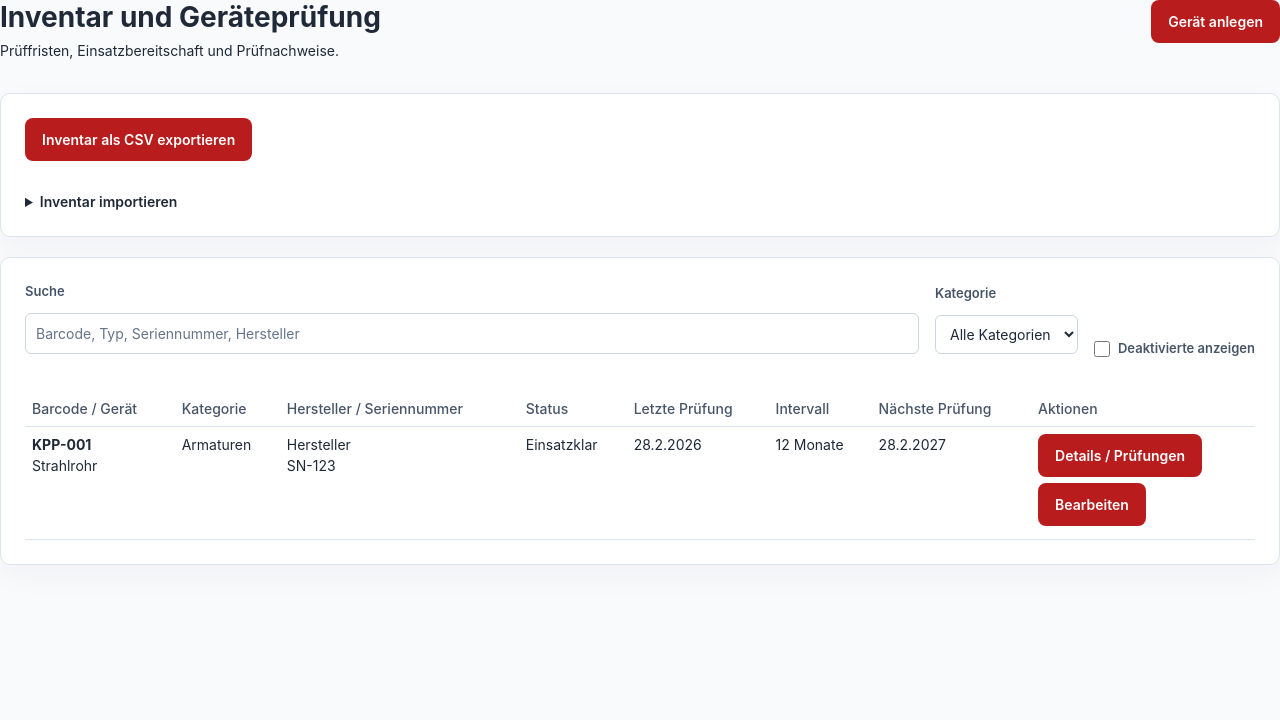
Test: records inspection status/comment and displays the updated due date and history
Click the button with aria-label "KPP-001 anzeigen" at [1120, 455], box [1038,434,1202,476]
(page scrolled)
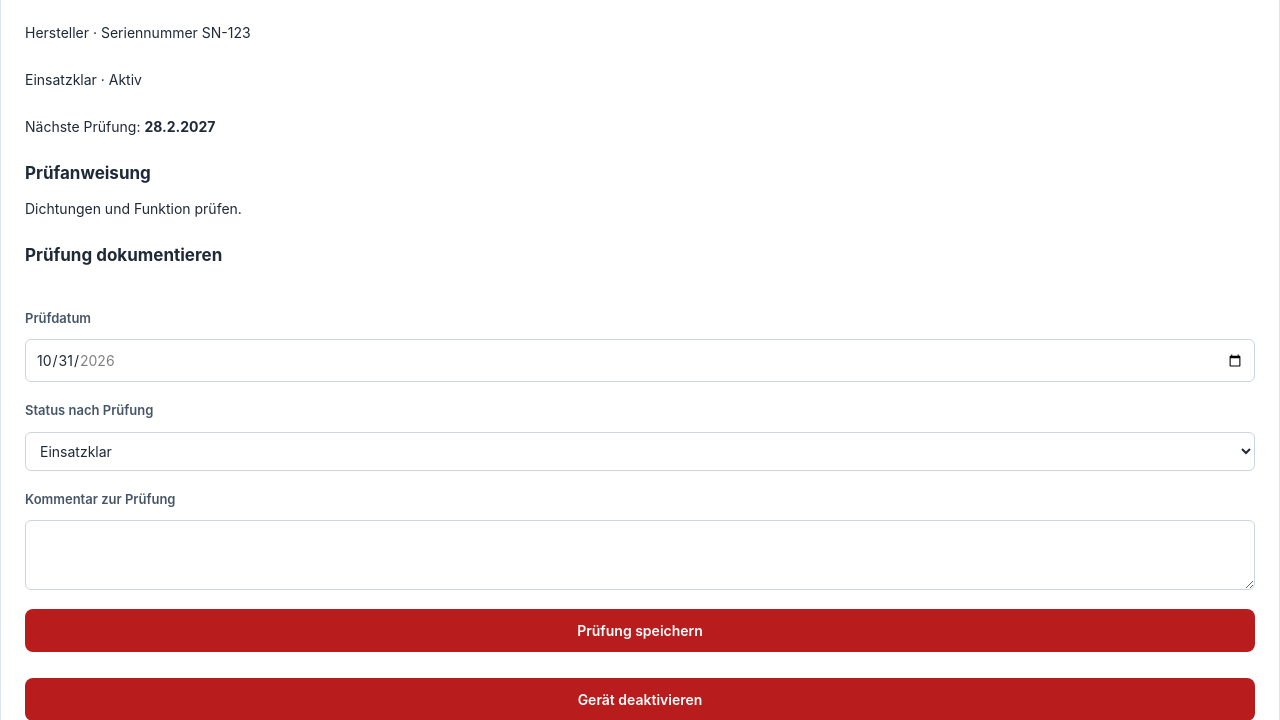
Result: the date field labelled "Prüfdatum" is shown
Type "2026-10-29" into the date field labelled "Prüfdatum" at [640, 360], box [25,339,1255,382]
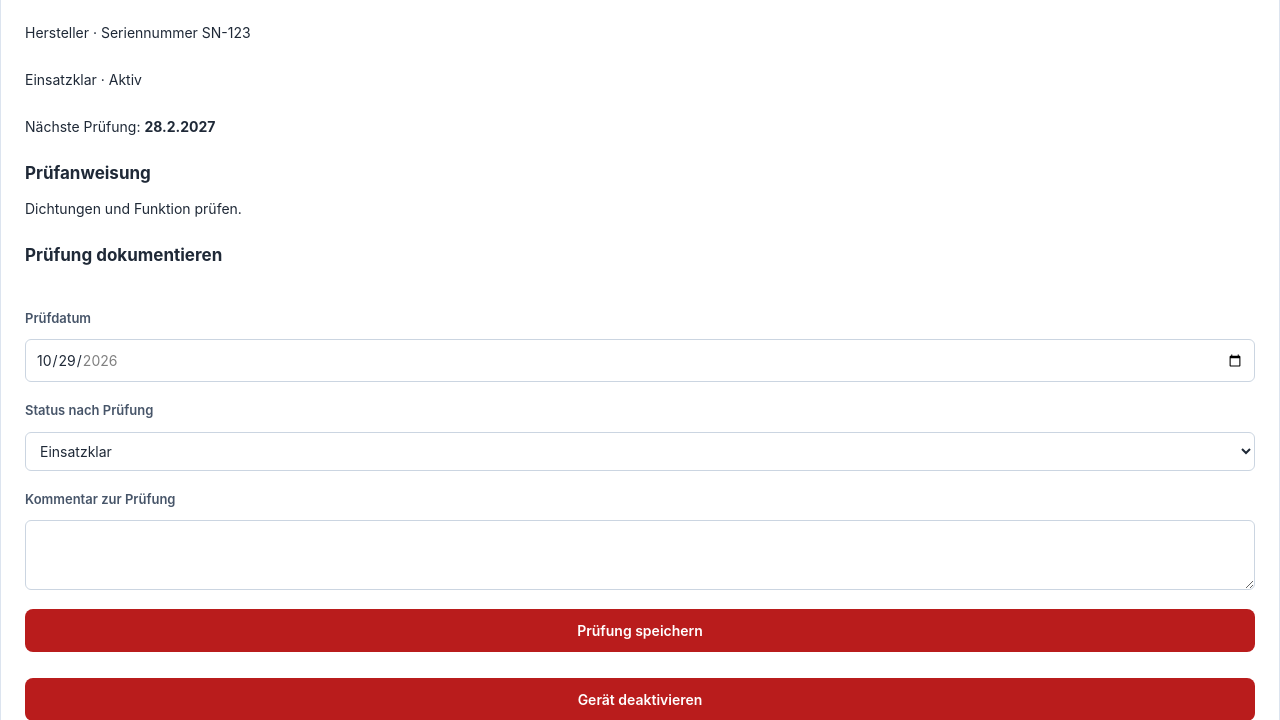
Select "Defekt" in the dropdown labelled "Status nach Prüfung" at [640, 451], box [25,432,1255,470]
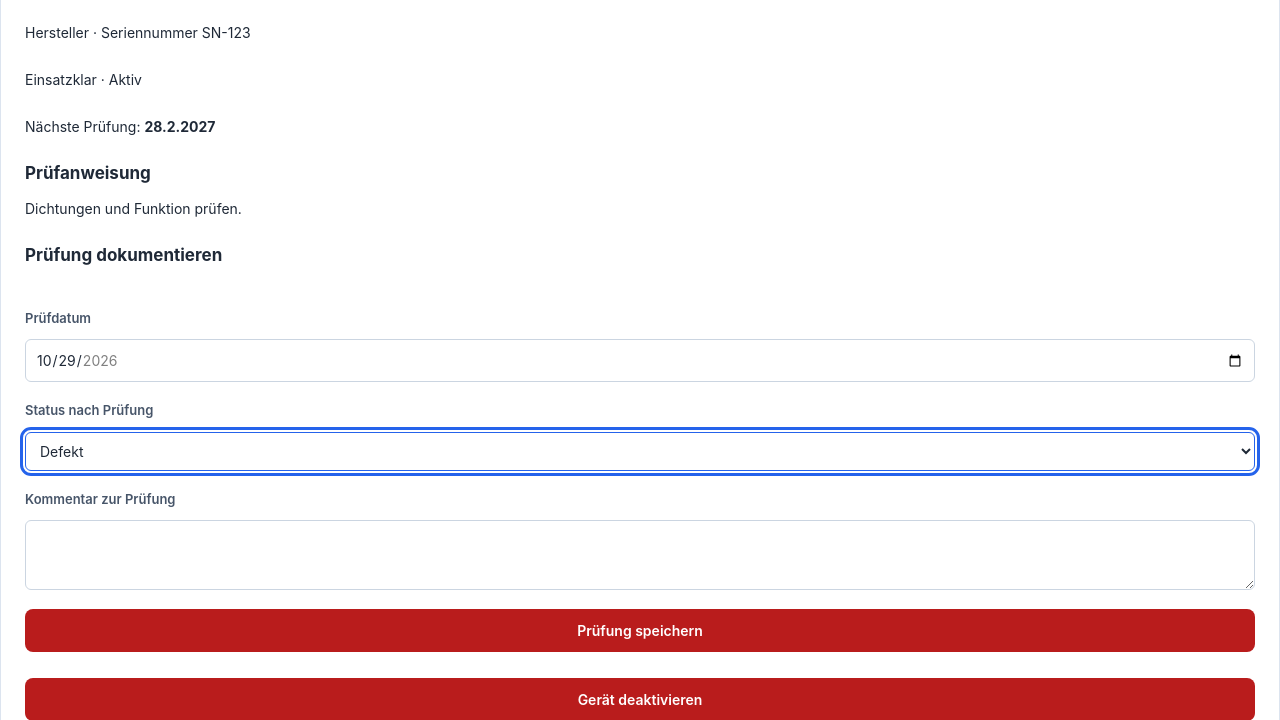
Type "Dichtung defekt" into the text box labelled "Kommentar zur Prüfung" at [640, 555], box [25,520,1255,590]
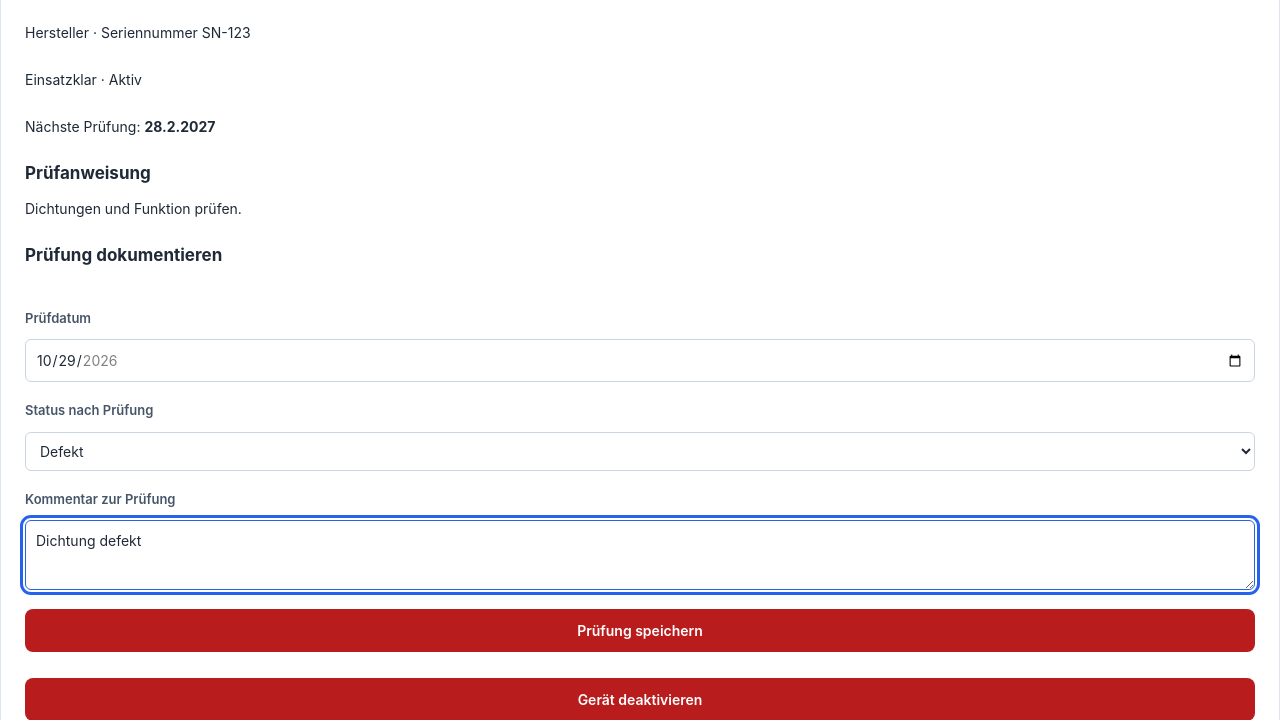
Click the button "Prüfung speichern" at [640, 630], box [25,609,1255,652]
(page scrolled)
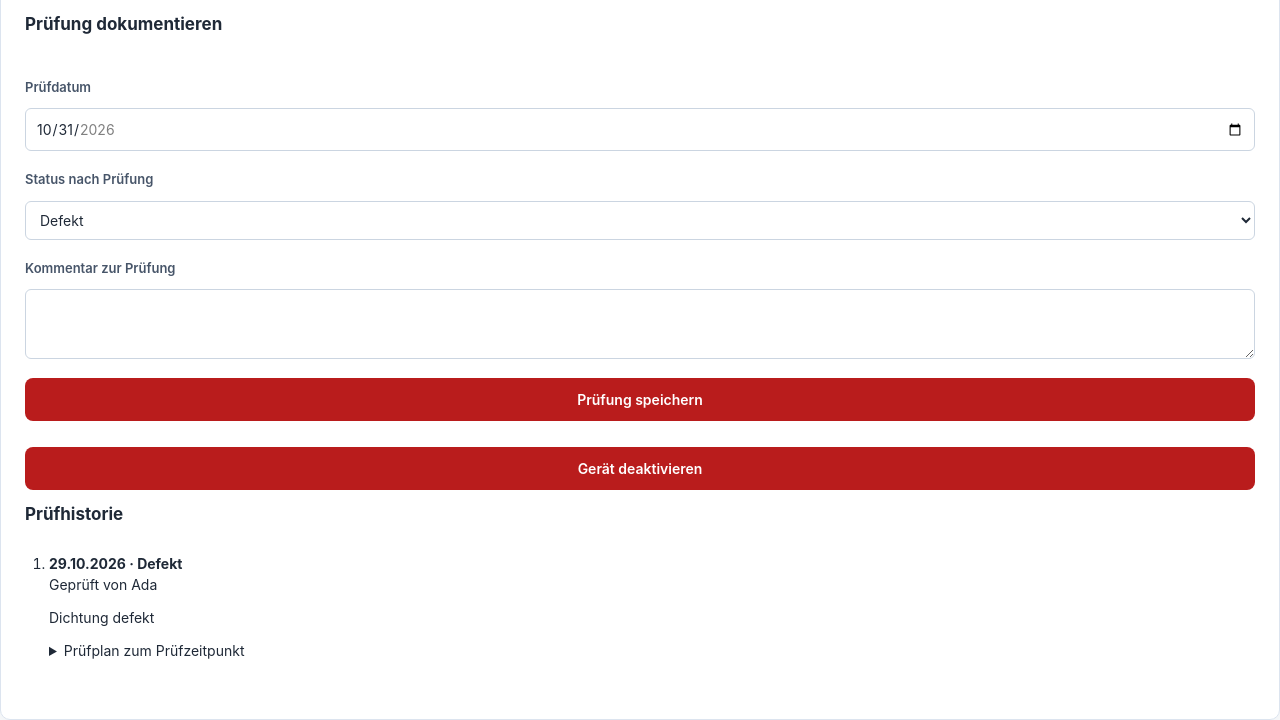
Result: the text "Geprüft von Ada" is shown at [49,576,157,593]
Result: the text "Dichtung defekt" is shown at [49,609,154,626]
